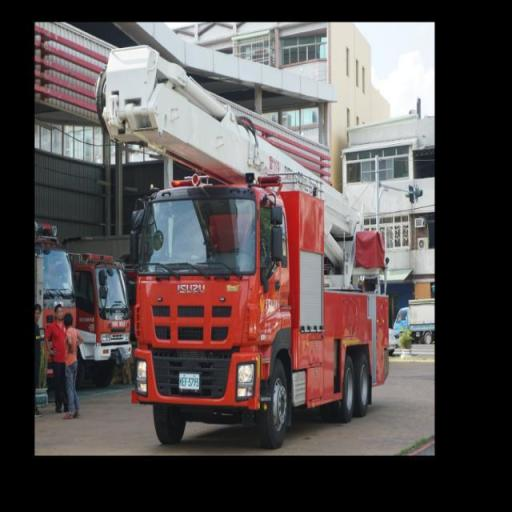fire truck: (81, 78, 410, 452)
